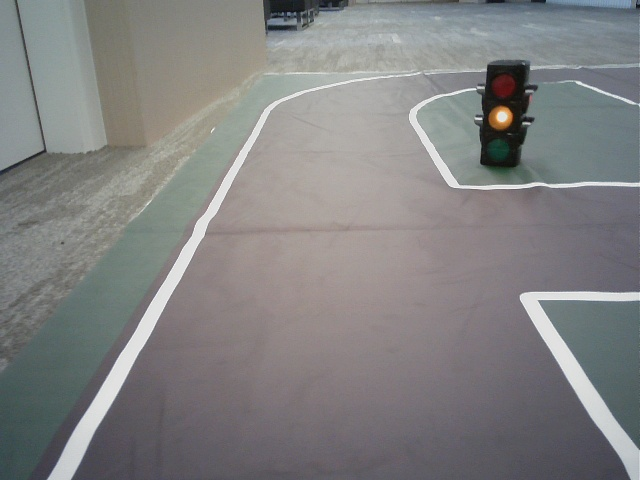yellow: (480, 68, 516, 161)
